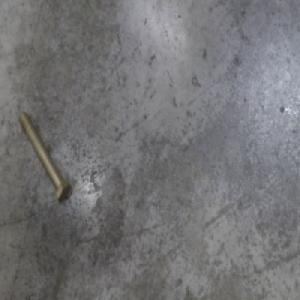Bolt: (18, 105, 70, 204)
